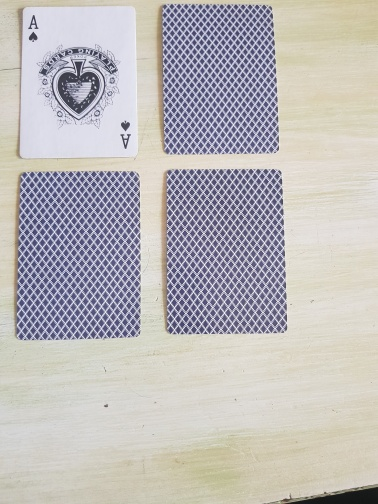ace: (18, 6, 139, 160)
